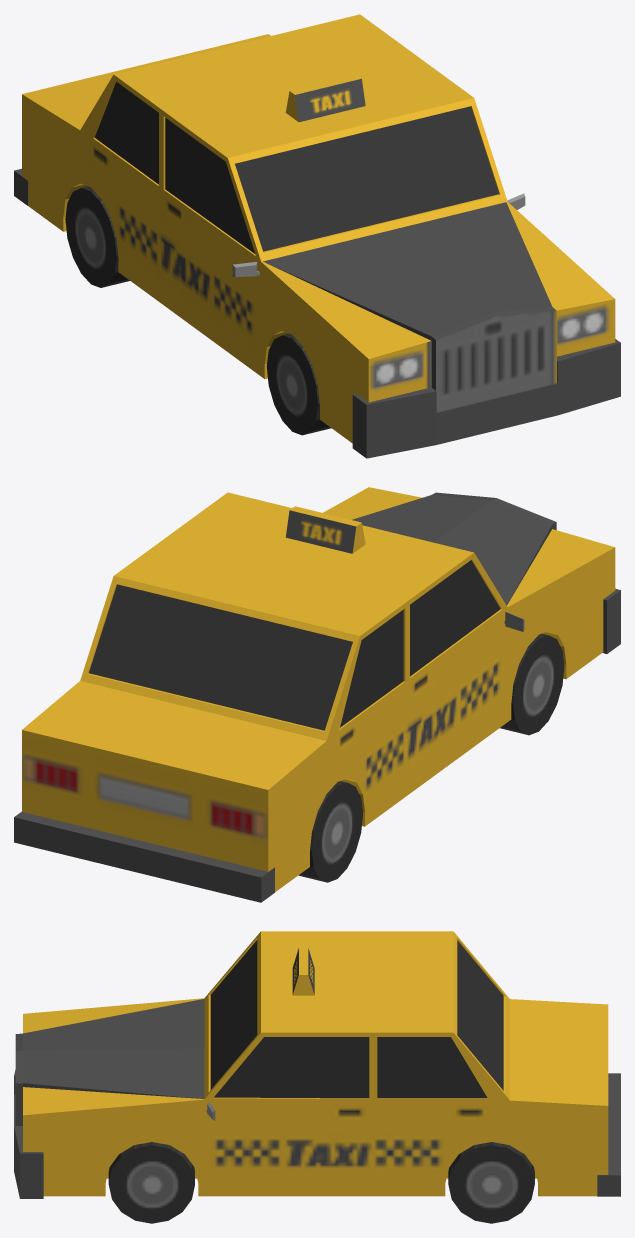
The model's file is Vehicle_Taxi.fbx.
3 renders of one model, top to bottom at view 1: azimuth 30°, elevation 25°; view 2: azimuth 150°, elevation 25°; view 3: azimuth 270°, elevation 25°, orthographic. The views are drawn at different scales.
Visible parts, largest first — view 1: Vehicle_Taxi; view 2: Vehicle_Taxi; view 3: Vehicle_Taxi.
Boxes of the visible parts, bbox=[...] form: Vehicle_Taxi: bbox=[14, 14, 620, 458]; Vehicle_Taxi: bbox=[14, 487, 620, 902]; Vehicle_Taxi: bbox=[14, 931, 620, 1223].
Size of the model in its own units: 296 by 243 by 632.
